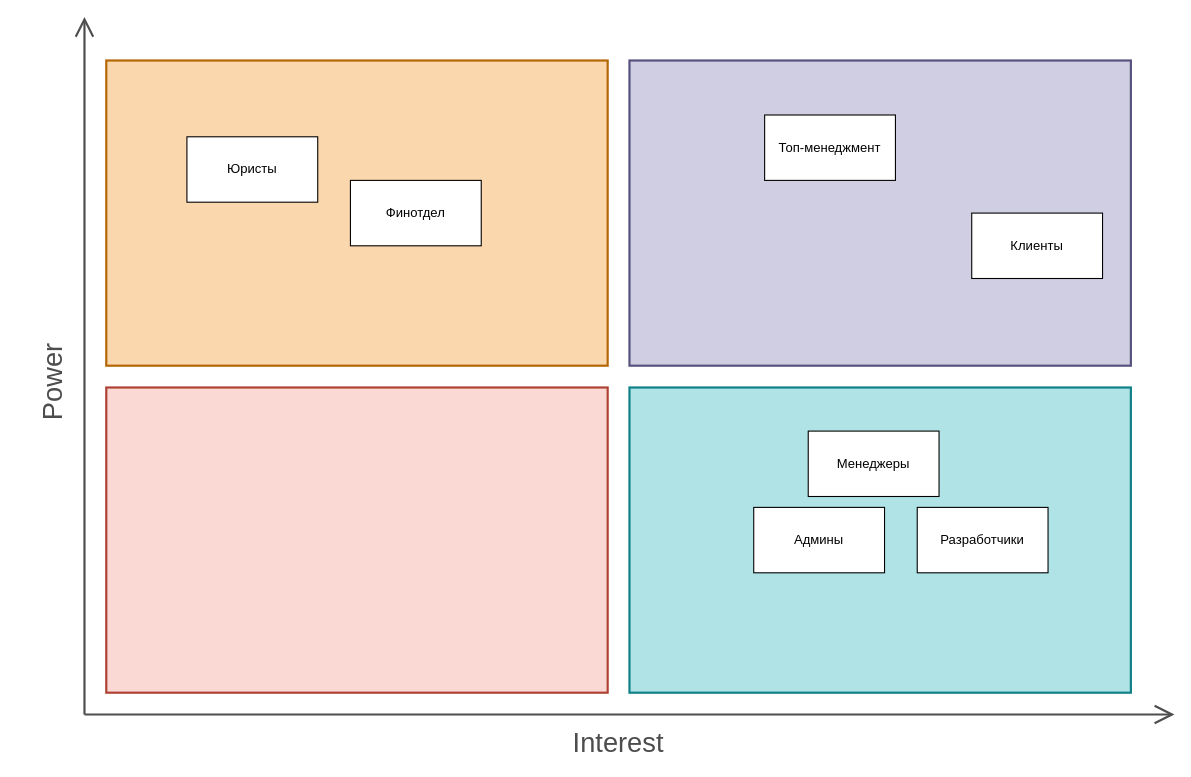
This 1191x777 diagram has some shape labels left out. The box of each missing label's shape, as (x1, y1, x2, y2) in pixels:
Keep informed: (628, 386, 1131, 693)
Keep satisfied: (105, 59, 608, 366)
Manage closely: (628, 59, 1131, 366)
Monitor (minimum effort): (105, 386, 608, 693)
